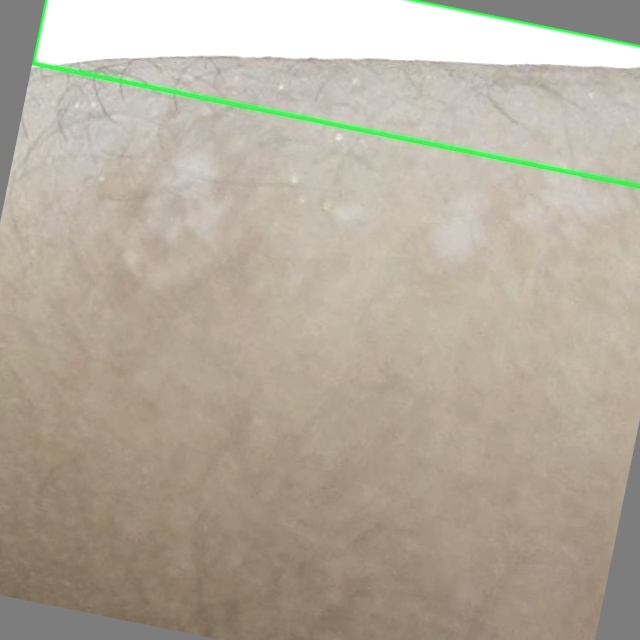Atopic Dermatitis: (32, 0, 639, 187)
